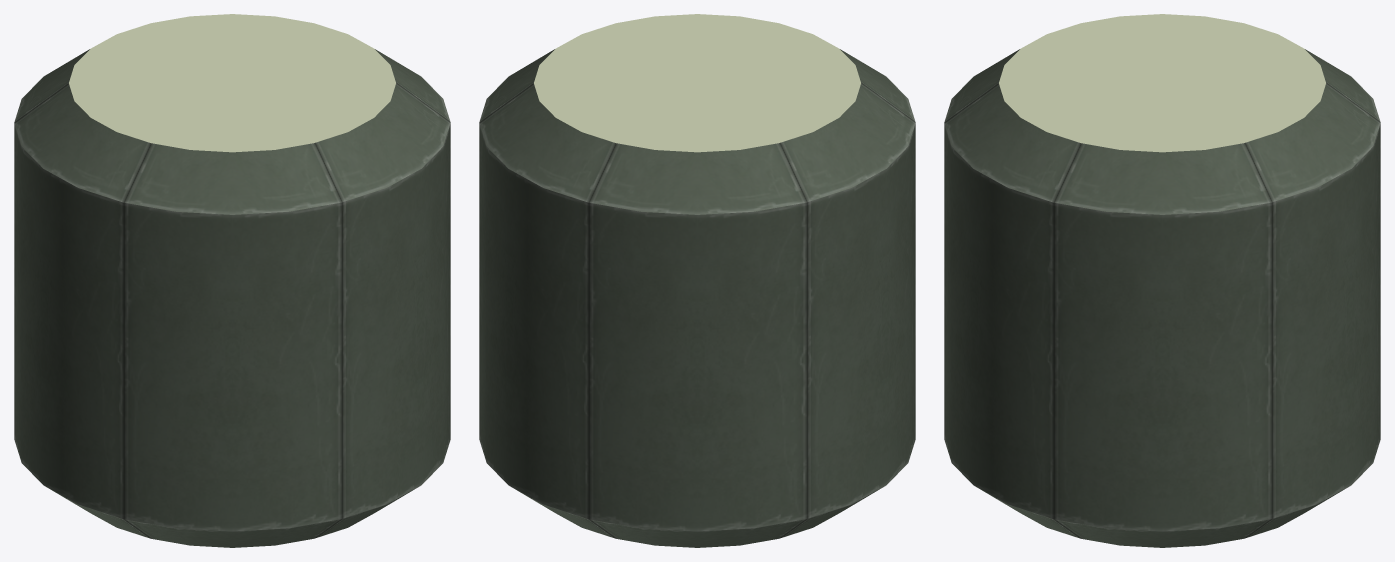
Rendered from pbr.obj.
3 renders of one model, left to right at view 1: azimuth 30°, elevation 25°; view 2: azimuth 150°, elevation 25°; view 3: azimuth 270°, elevation 25°, orthographic.
Visible parts, largest first — view 1: pbr_pbr_auv, pbr_default; view 2: pbr_pbr_auv, pbr_default; view 3: pbr_pbr_auv, pbr_default.
Part boxes in pixels (x1=…): pbr_pbr_auv: x1=14, y1=49, x2=450, y2=547; pbr_default: x1=69, y1=14, x2=395, y2=152; pbr_pbr_auv: x1=479, y1=49, x2=915, y2=547; pbr_default: x1=534, y1=14, x2=860, y2=152; pbr_pbr_auv: x1=944, y1=49, x2=1380, y2=547; pbr_default: x1=999, y1=14, x2=1325, y2=152.
Size of the model in its own units: 1.25 by 1.25 by 1.25.
2 materials, 1 textured.
